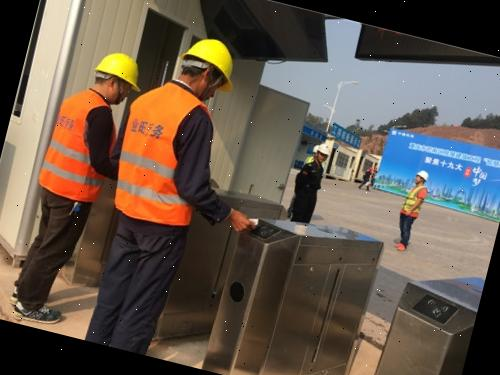helmet: (175, 29, 248, 92), (90, 47, 146, 91), (311, 140, 334, 157), (414, 166, 432, 180)
no_wear: (292, 162, 324, 212)
wear: (106, 81, 226, 237), (33, 85, 120, 208), (399, 182, 431, 222)
